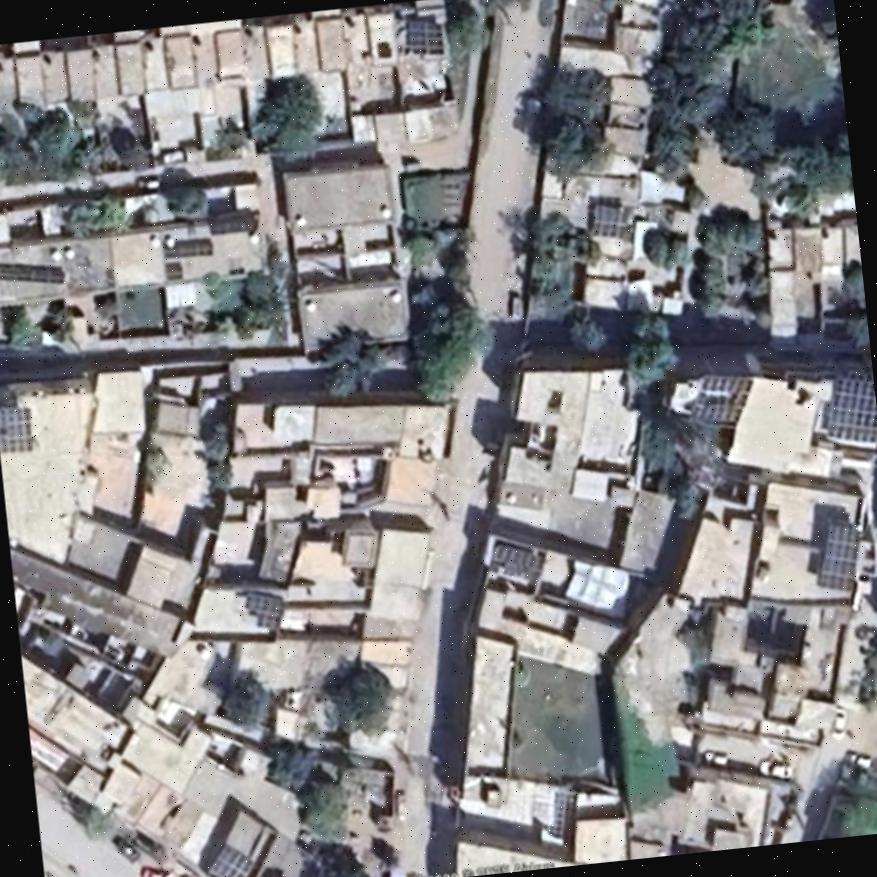Solarpanel: (694, 374, 753, 431), (827, 377, 877, 442), (819, 524, 861, 592), (490, 539, 540, 595), (207, 842, 254, 877), (408, 16, 448, 57), (0, 407, 34, 452), (243, 591, 281, 628), (591, 204, 630, 238), (0, 264, 65, 280), (164, 240, 213, 256), (164, 260, 182, 278)
